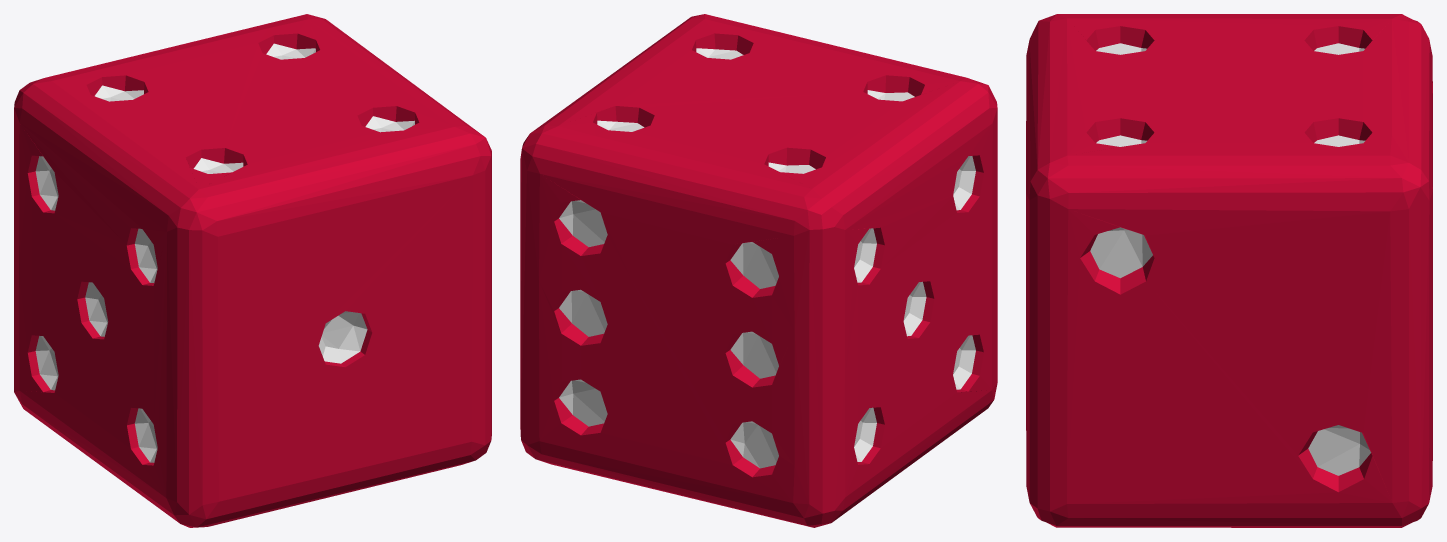
3 views of the same model, side by side, from view 1: azimuth 30°, elevation 25°; view 2: azimuth 150°, elevation 25°; view 3: azimuth 270°, elevation 25° (orthographic). The views are drawn at different scales.
Visible parts, largest first — view 1: Cube; view 2: Cube; view 3: Cube.
Part boxes in pixels (x1,y1,x2,y2): Cube: [14, 14, 491, 527]; Cube: [520, 14, 997, 527]; Cube: [1026, 14, 1432, 527].
Size of the model in its own units: 2 by 2 by 2.
